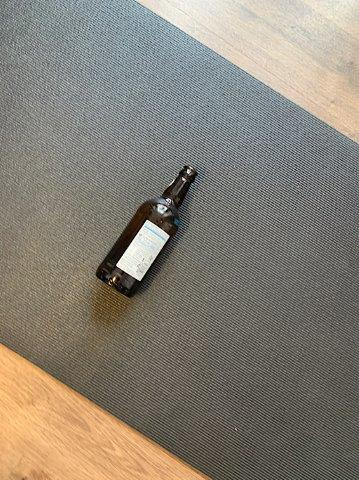botolkaca: (96, 165, 198, 299)
